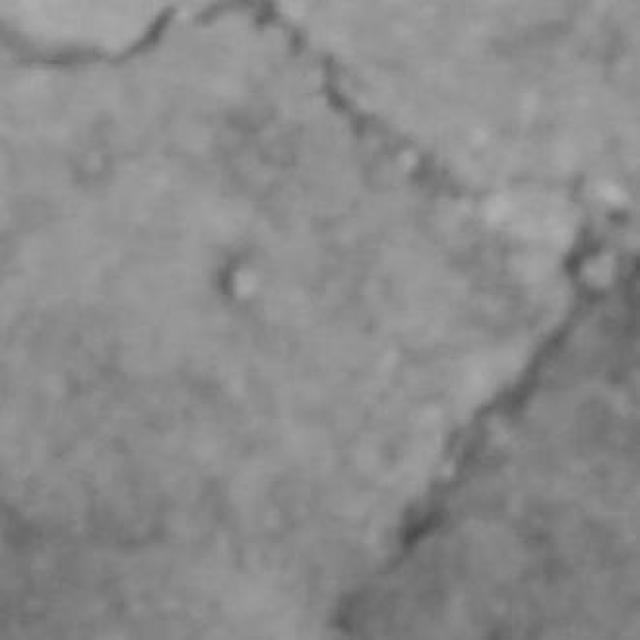crack: (379, 222, 639, 574), (392, 222, 639, 564), (192, 0, 482, 199), (0, 6, 178, 67)
